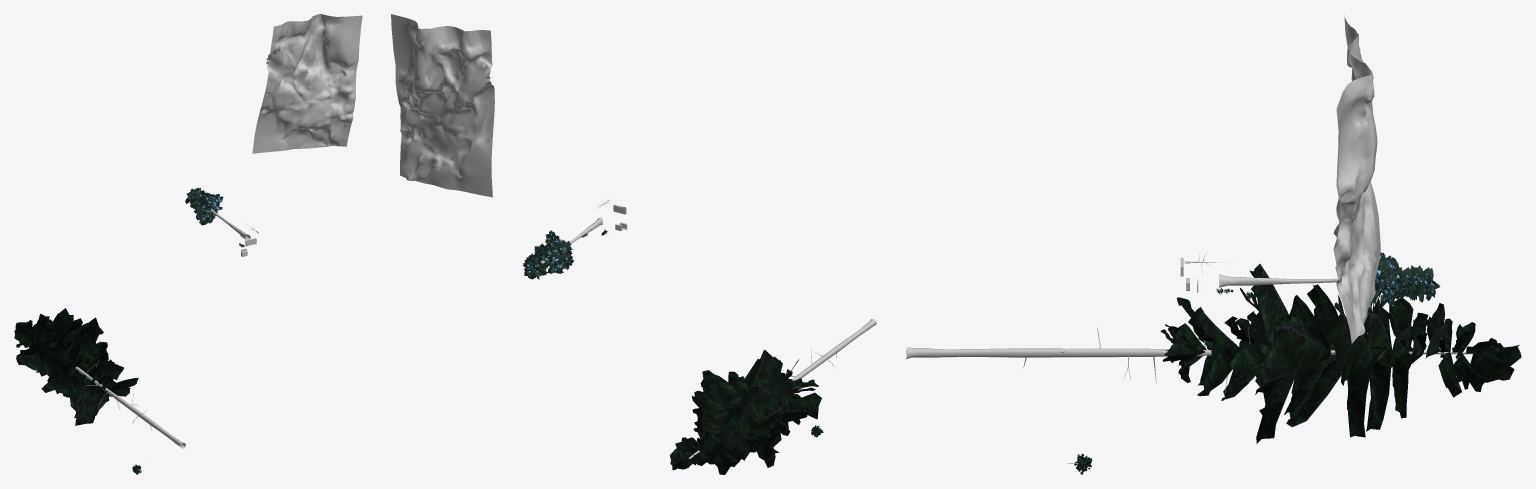
File: Medium-treeobj.obj
The picture shows the model from 3 angles, left to right: view 1: azimuth 30°, elevation 25°; view 2: azimuth 150°, elevation 25°; view 3: azimuth 270°, elevation 25°; orthographic projection. The views are drawn at different scales.
Visible parts, largest first — view 1: Mesh_0160.rip, Mesh_0171.rip_Mesh_0171.rip.001, Mesh_0133.rip_Mesh_0133.rip.001; view 2: Mesh_0160.rip, Mesh_0171.rip_Mesh_0171.rip.001, Mesh_0133.rip_Mesh_0133.rip.001; view 3: Mesh_0171.rip_Mesh_0171.rip.001, Mesh_0160.rip, Mesh_0133.rip_Mesh_0133.rip.001.
Boxes of the visible parts, x1,y1,x2,y2 form: Mesh_0160.rip: [252, 14, 362, 153]; Mesh_0171.rip_Mesh_0171.rip.001: [14, 308, 185, 448]; Mesh_0133.rip_Mesh_0133.rip.001: [185, 187, 250, 240]; Mesh_0160.rip: [391, 14, 494, 197]; Mesh_0171.rip_Mesh_0171.rip.001: [670, 319, 876, 474]; Mesh_0133.rip_Mesh_0133.rip.001: [523, 217, 602, 279]; Mesh_0171.rip_Mesh_0171.rip.001: [905, 264, 1521, 443]; Mesh_0160.rip: [1333, 14, 1380, 343]; Mesh_0133.rip_Mesh_0133.rip.001: [1219, 252, 1439, 312].
Bounding box in the file's own units: 237 × 230 × 198.
